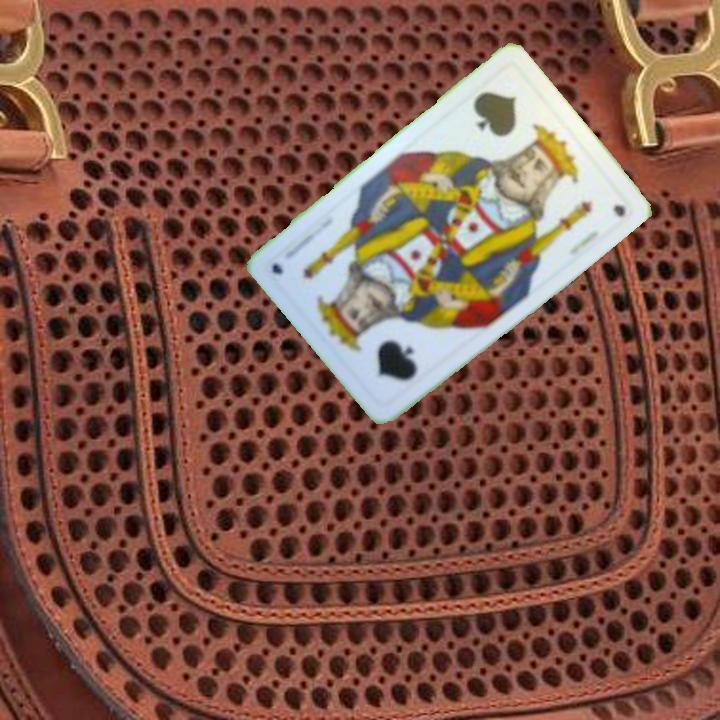s_k.png: (446, 60, 574, 190), (325, 283, 452, 413)
